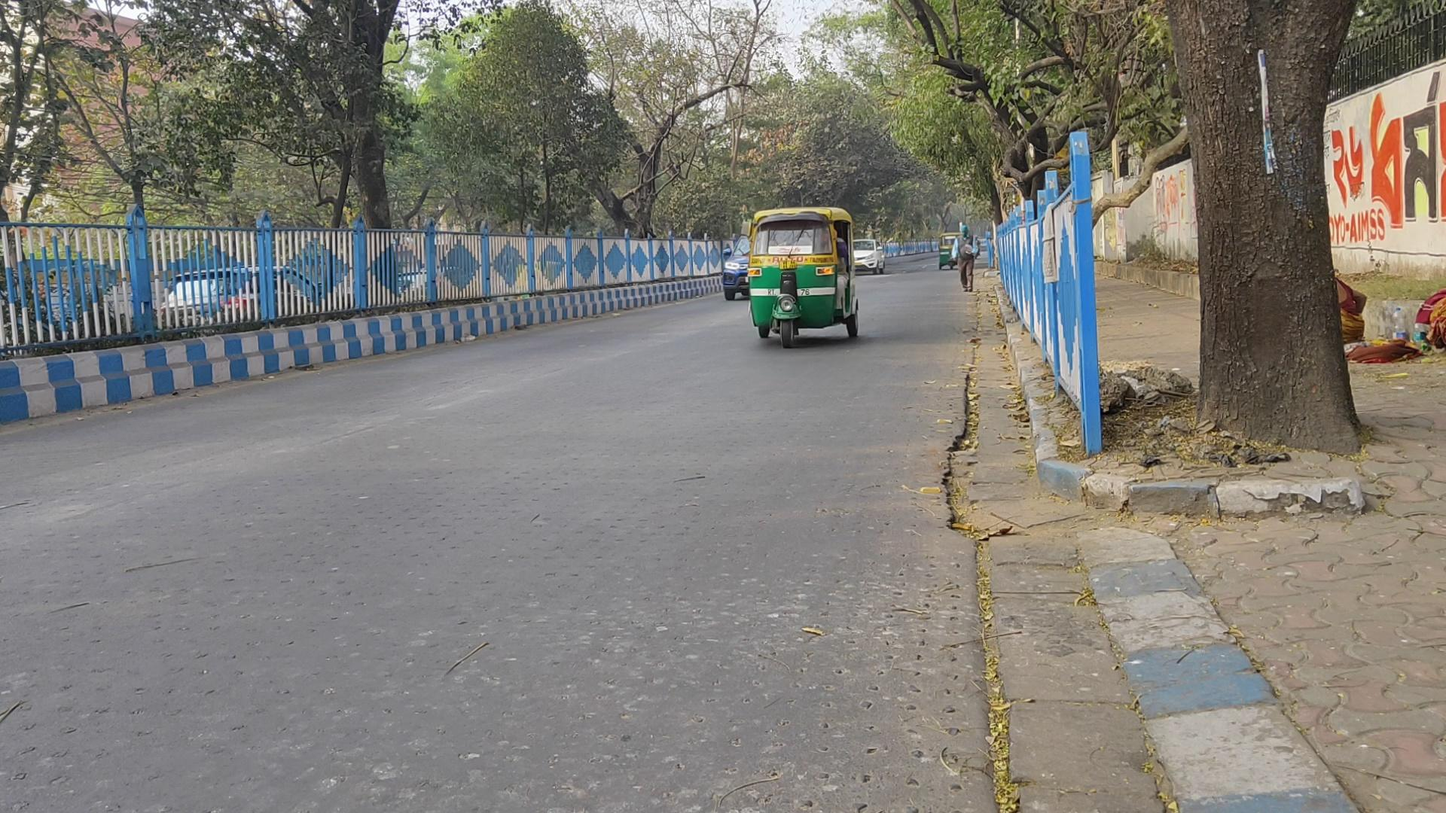Auto: (747, 204, 860, 351), (938, 232, 962, 270)
car: (853, 238, 886, 276)
